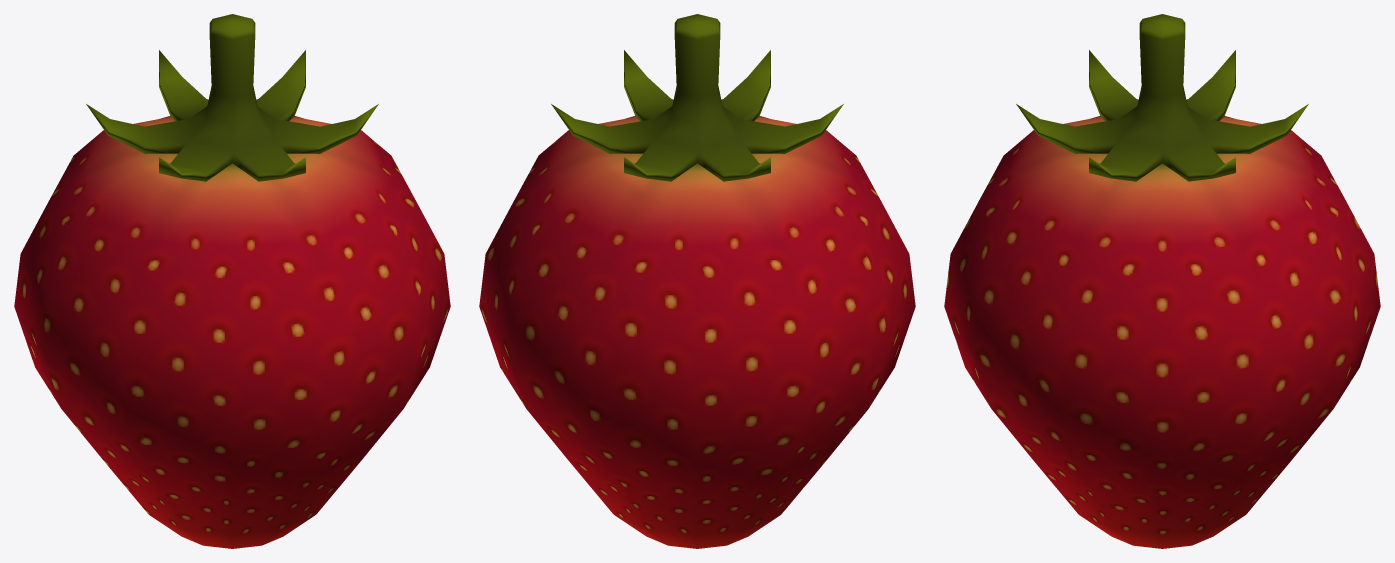
File: Strawberry.fbx
The picture shows the model from 3 angles, left to right: view 1: azimuth 30°, elevation 25°; view 2: azimuth 150°, elevation 25°; view 3: azimuth 270°, elevation 25°; orthographic projection.
Visible parts, largest first — view 1: Strawberry_Whole; view 2: Strawberry_Whole; view 3: Strawberry_Whole.
Part boxes in pixels (x1,y1,x2,y2): Strawberry_Whole: [14, 14, 450, 548]; Strawberry_Whole: [479, 14, 915, 548]; Strawberry_Whole: [944, 14, 1380, 548].
Bounding box in the file's own units: 1.06 × 1.38 × 1.06.
